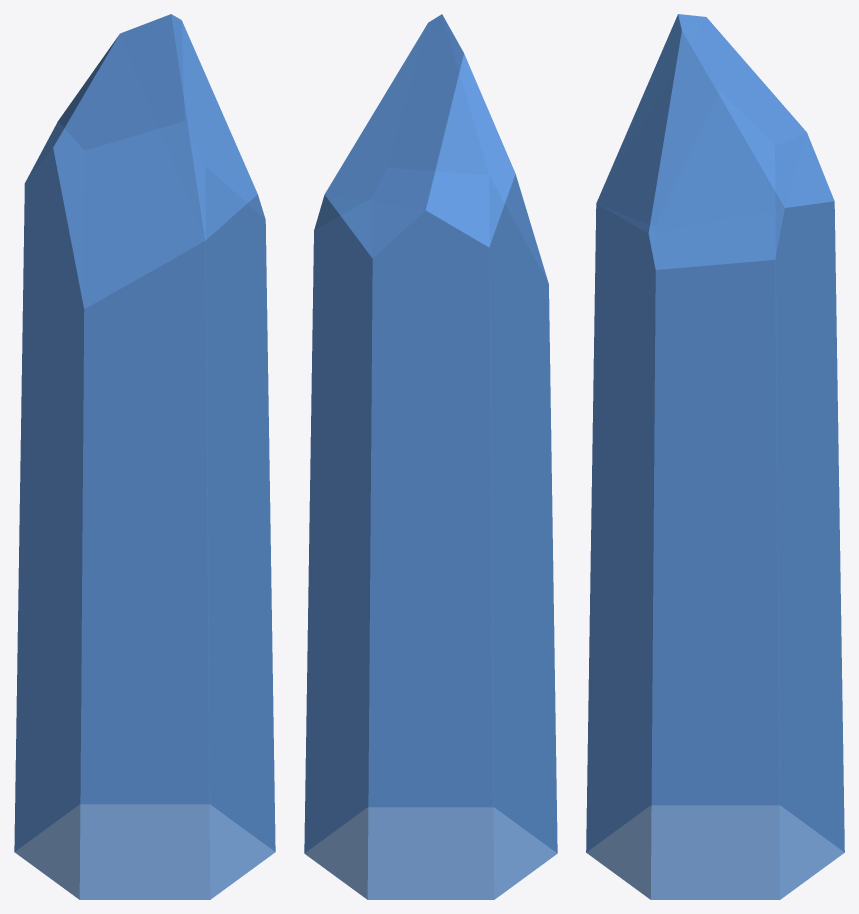
The model's file is Crystal_m_05.fbx.
3 renders of one model, left to right at view 1: azimuth 30°, elevation 25°; view 2: azimuth 150°, elevation 25°; view 3: azimuth 270°, elevation 25°, orthographic. The views are drawn at different scales.
Visible parts, largest first — view 1: Crystal_m_05; view 2: Crystal_m_05; view 3: Crystal_m_05.
Part boxes in pixels (x1,y1,x2,y2): Crystal_m_05: (14, 14, 275, 899); Crystal_m_05: (304, 14, 557, 899); Crystal_m_05: (586, 14, 844, 899).
Size of the model in its own units: 36.41 by 151 by 42.04.
